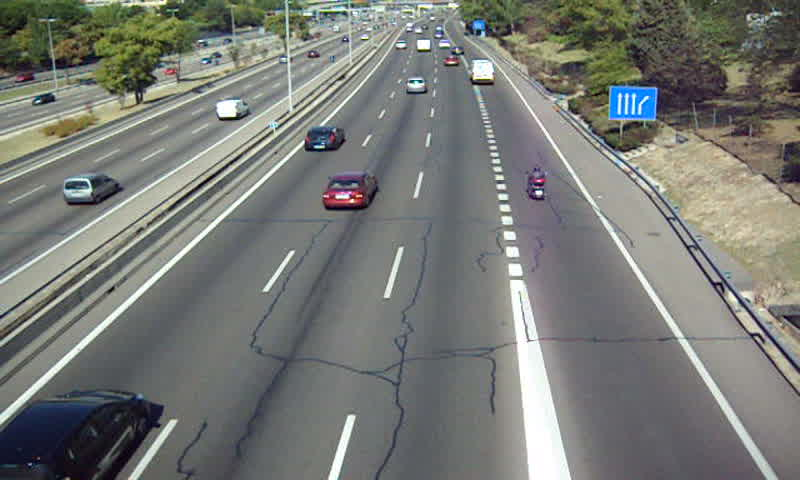car: (1, 392, 148, 480), (323, 171, 378, 208), (304, 125, 346, 152), (403, 76, 426, 94), (442, 55, 460, 68), (393, 40, 406, 48)
motorcycle: (524, 164, 549, 201)
van: (471, 59, 496, 84), (415, 39, 429, 52)
